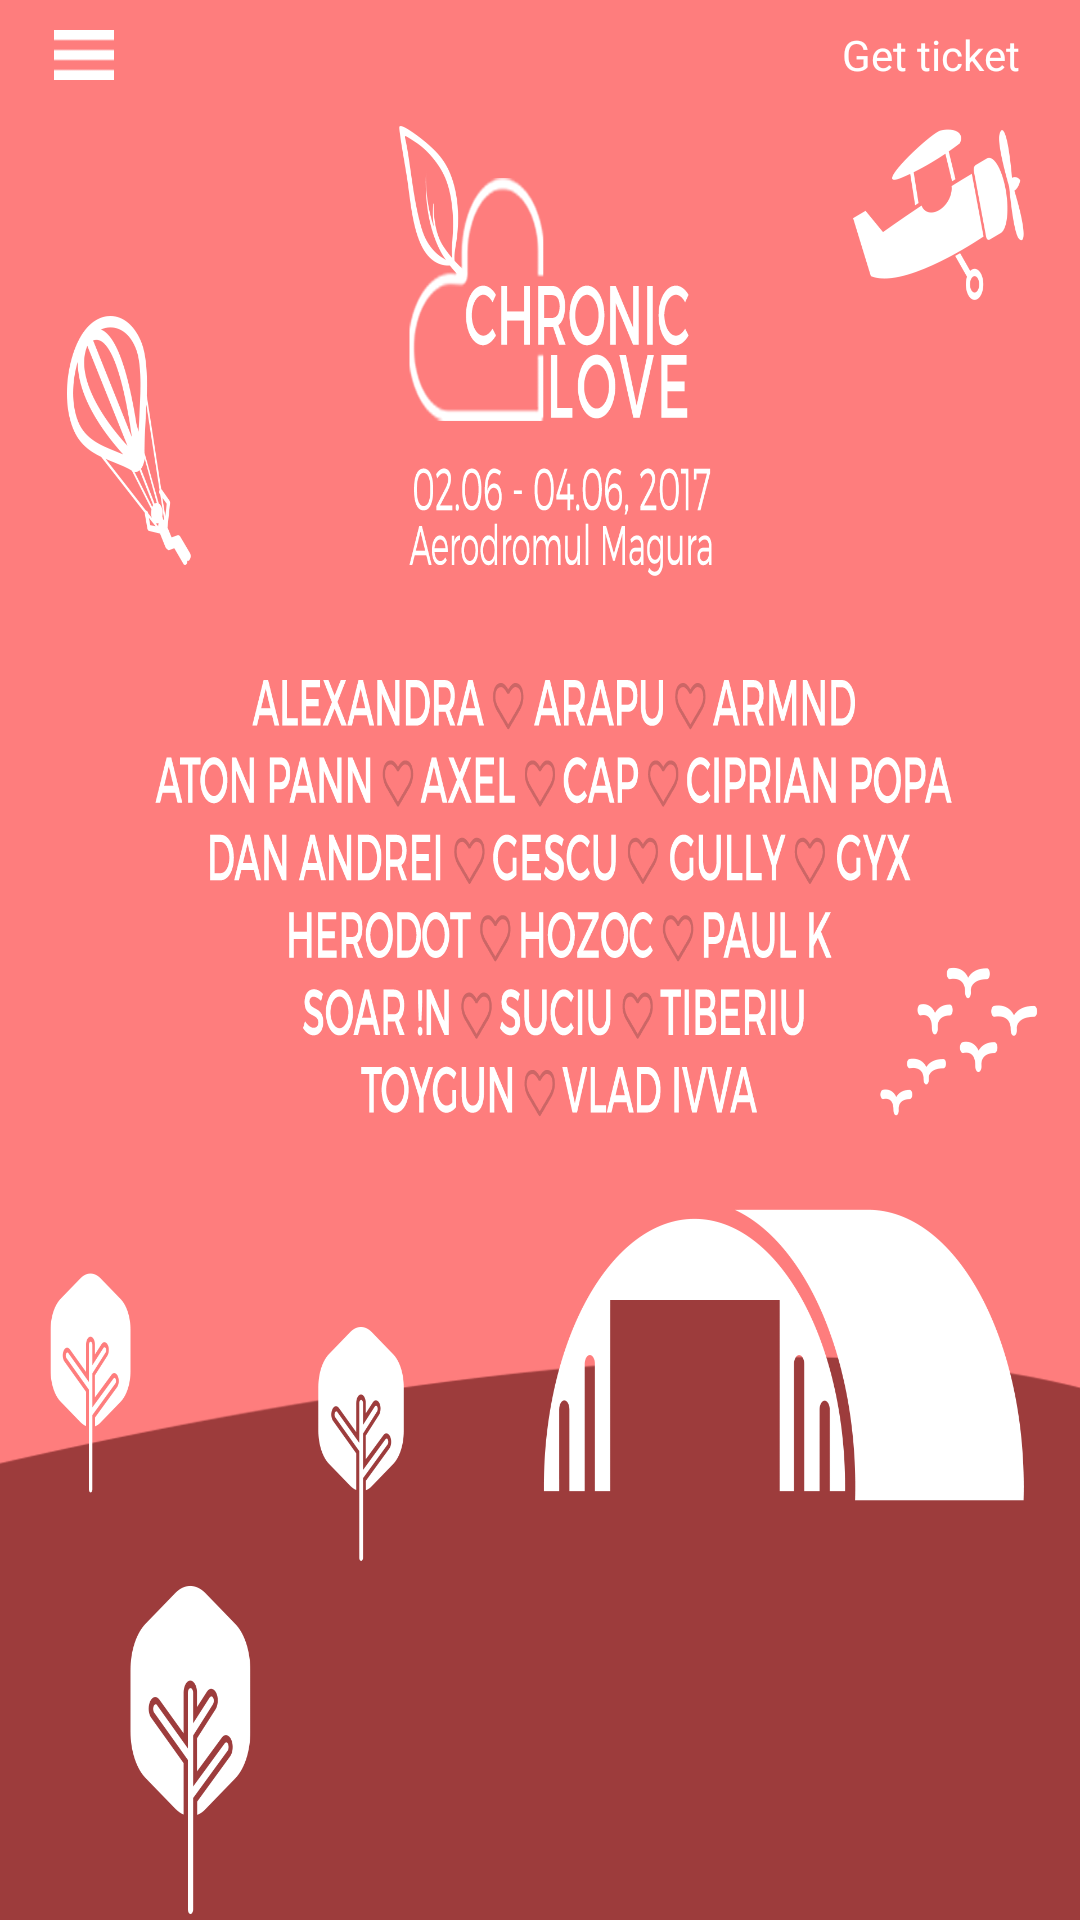

Named icons in this screenshot (1080 x 1920) and their centers, [x,y]:
burger: [84,55]
